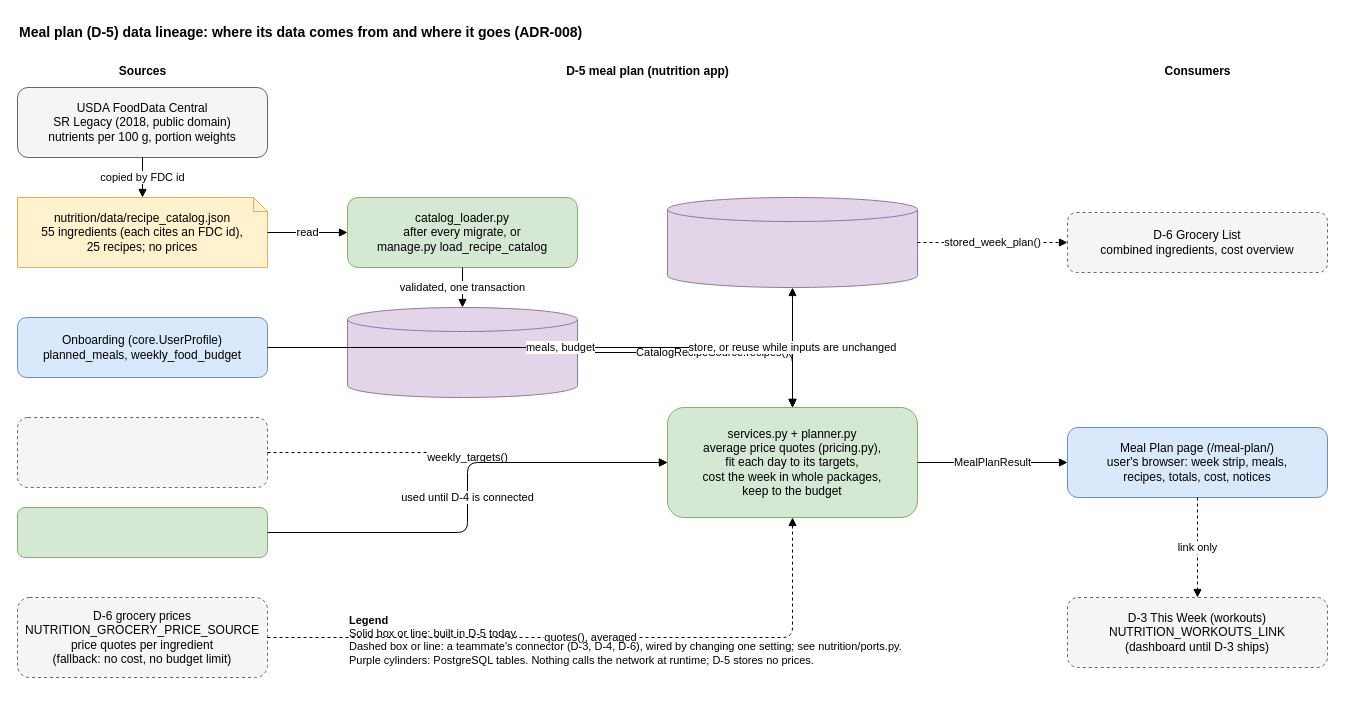
The diagram is 1345 pixels wide and 704 high, and some of its shapes have lost their labels. Here are the shapes that lost their labels. From the top down, the centre of each, then its label:
At (x=792, y=242): "PostgreSQL WeeklyMealPlan, PlannedMealEntry (one plan per user per week)".
At (x=462, y=352): "PostgreSQL Ingredient, CatalogRecipe, RecipeLine".
At (x=142, y=452): "D-4 Macro Generation NUTRITION_MACRO_TARGETS_PROVIDER 7 daily macro targets".
At (x=142, y=532): "Fallback: FDA Daily Values (nutrition/targets.py, 21 CFR 101.9)".
